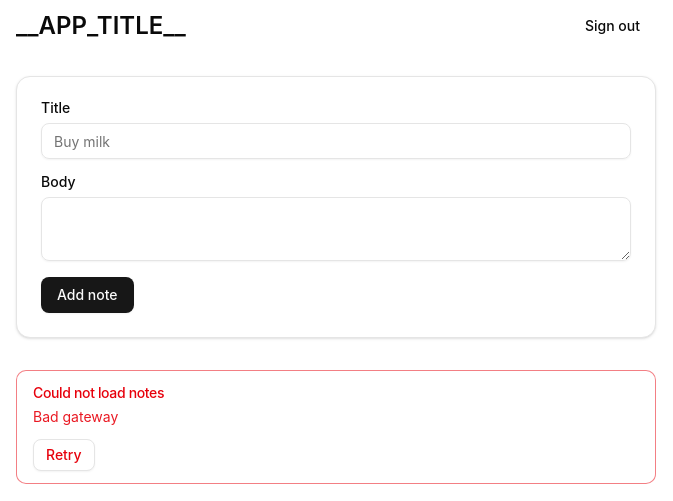
Test case: NotesPage › shows the error state and retries
Expected: the message with test id "notes-error" shows "Bad gateway", [33,408,118,425]
Click the button "Retry" at (64, 455), box [33,439,95,471]
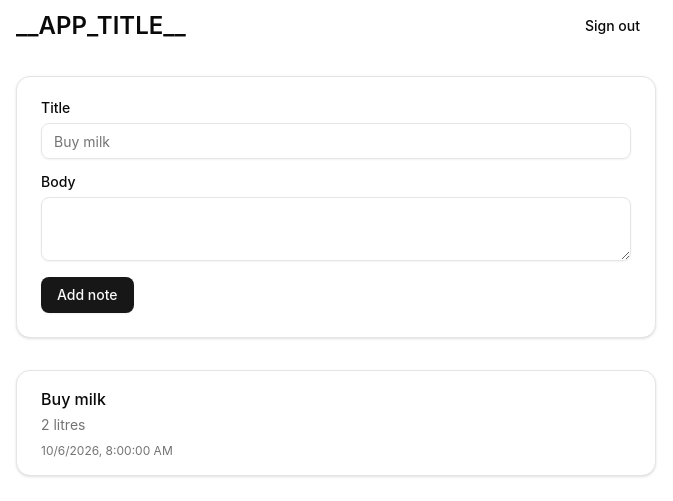
Result: the heading "Buy milk" is shown at [41,389,106,409]
